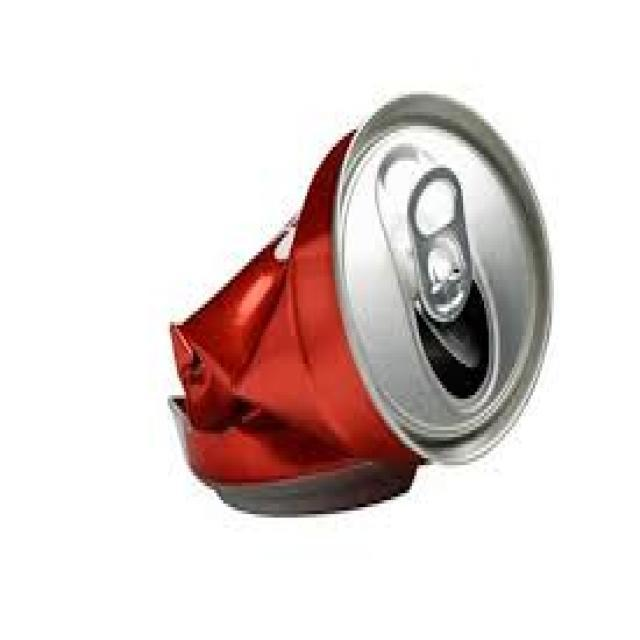recyclable: (168, 97, 552, 518)
